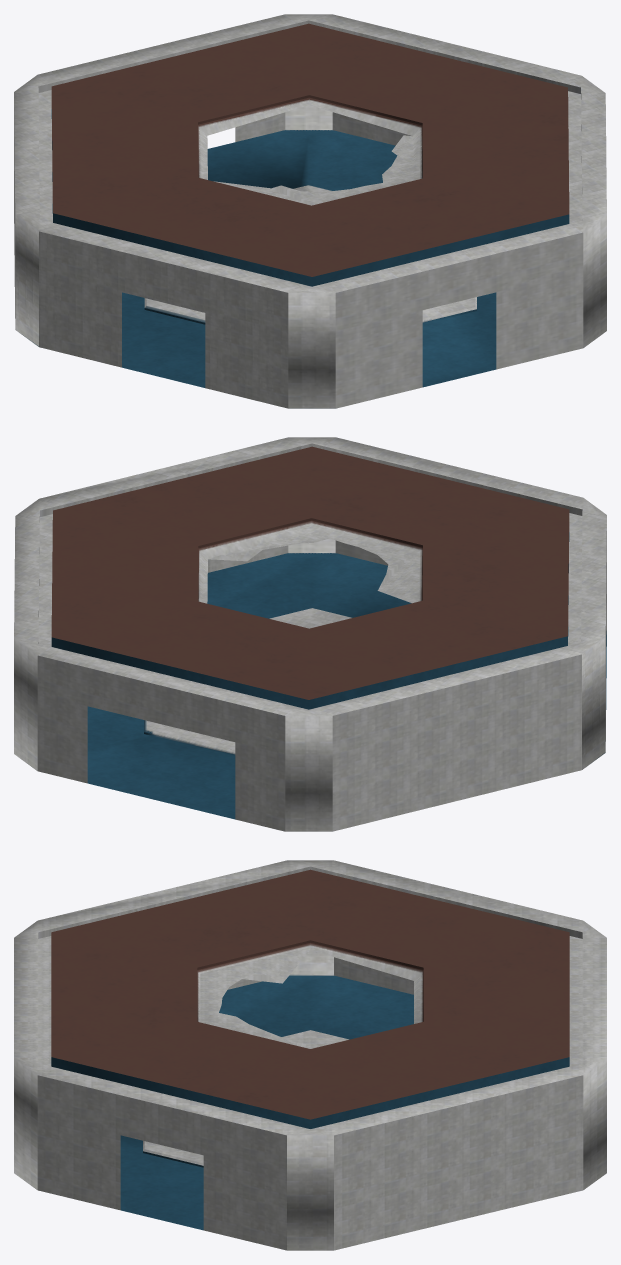
The model's file is lobby_collapsed_v2.fbx.
The picture shows the model from 3 angles, top to bottom: view 1: azimuth 30°, elevation 25°; view 2: azimuth 150°, elevation 25°; view 3: azimuth 270°, elevation 25°; orthographic projection.
Parts seen in each view (by area): view 1: bake; view 2: bake; view 3: bake.
Boxes of the visible parts, x1,y1,x2,y2 form: bake: [14, 14, 606, 408]; bake: [14, 437, 606, 831]; bake: [14, 860, 606, 1250].
Size of the model in its own units: 983 by 197 by 896.
